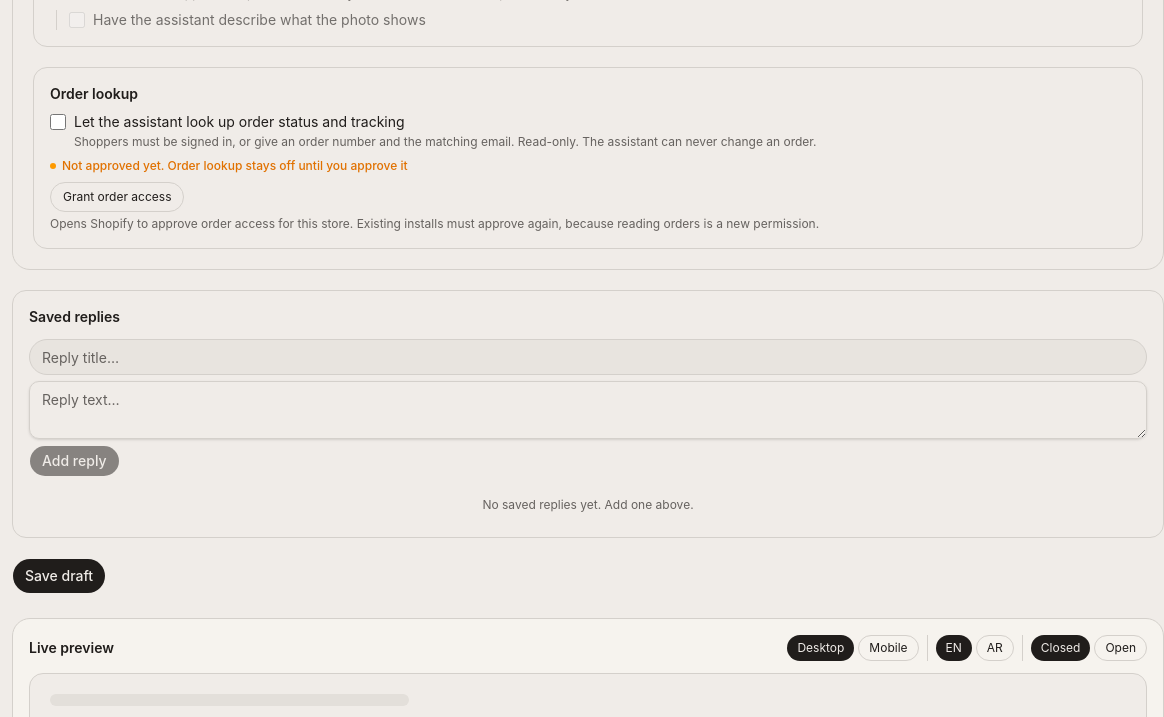
Test: BehaviourEditor saved replies › adds on title Enter without submitting the outer draft form
The image size is (1164, 717).
(page scrolled)
Type "Shipping" into the field labelled "Reply title…" at (588, 357), box x1=29 y1=339 x2=1147 y2=375
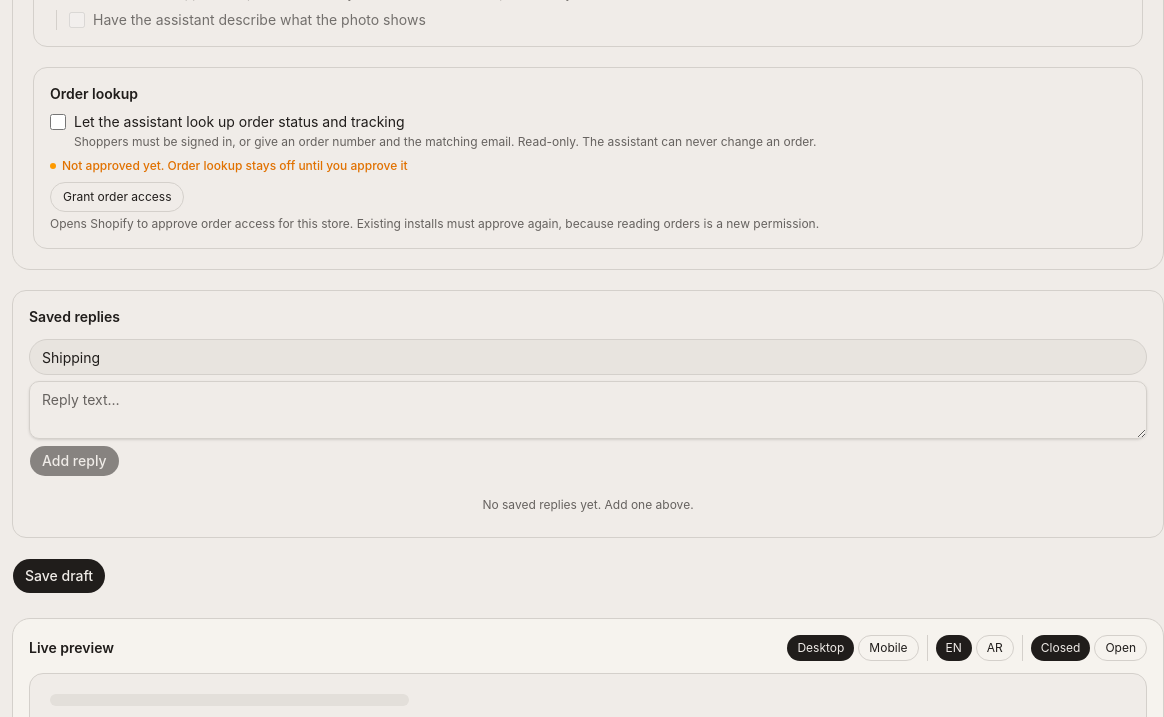
Type "Ships fast" into the text box labelled "Reply text…" at (588, 410), box x1=29 y1=381 x2=1147 y2=439
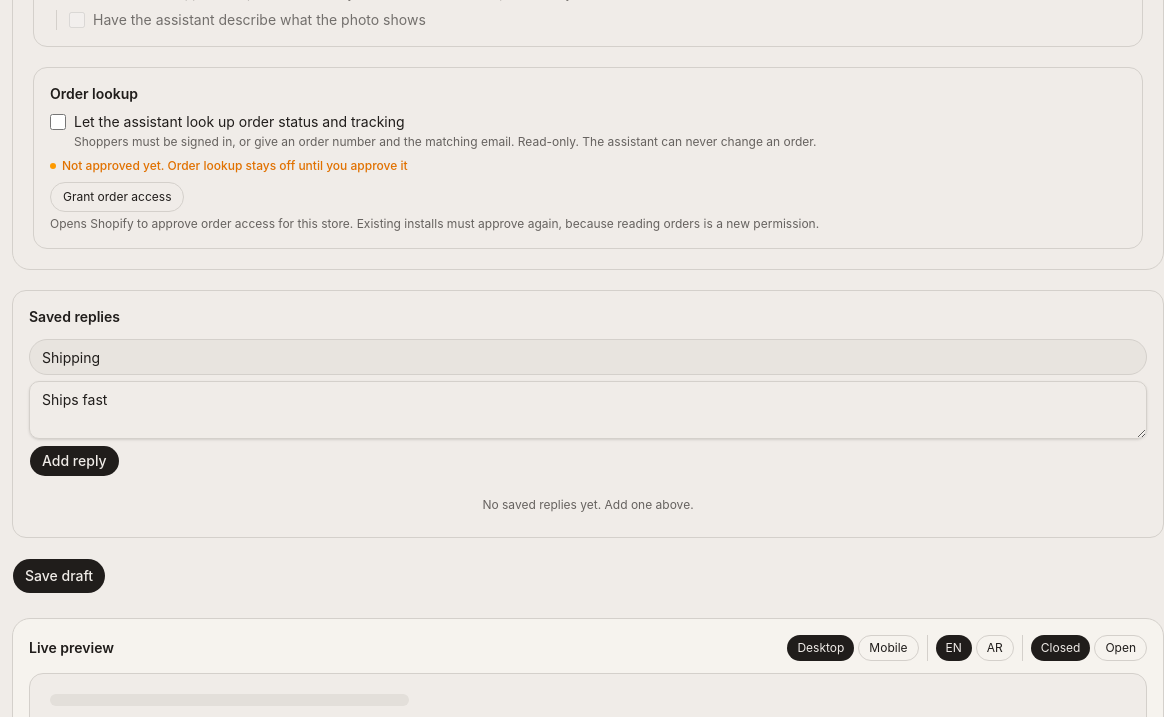
Press Enter in the field named "Reply title…", box x1=29 y1=339 x2=1147 y2=375
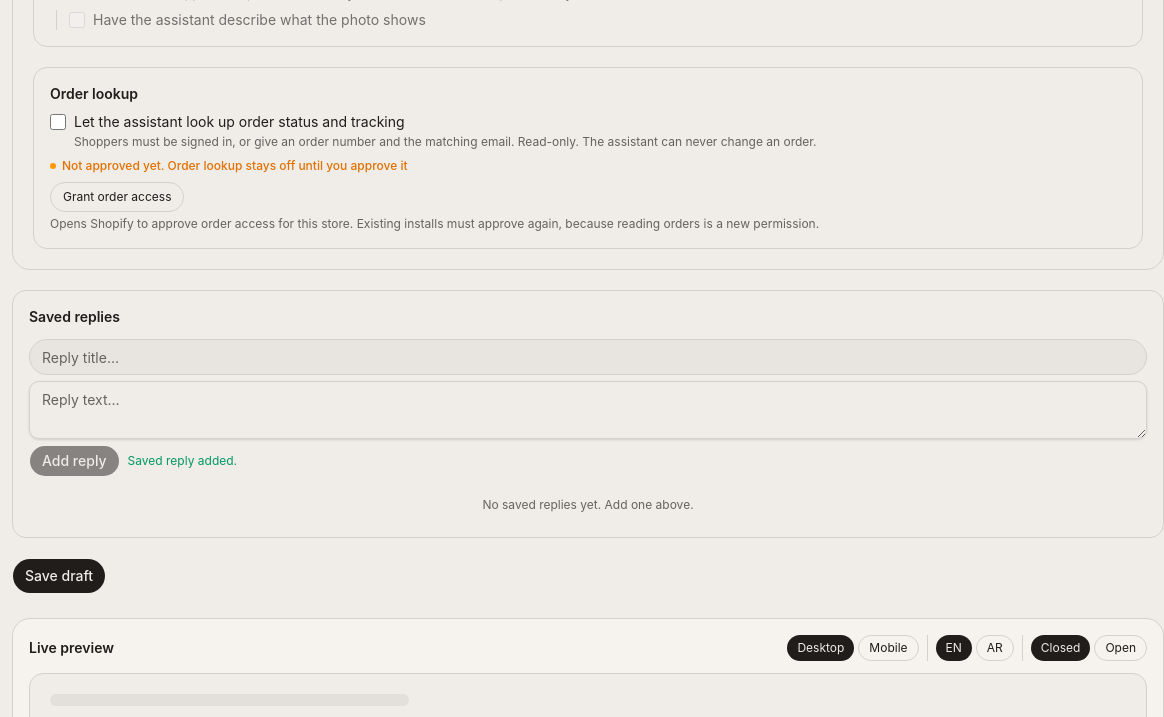
Now the text "Saved reply added." is shown, box x1=128 y1=453 x2=237 y2=469
